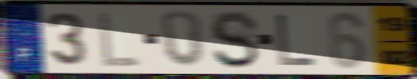0: (159, 9, 207, 70)
3: (45, 11, 90, 67)
6: (325, 10, 371, 71)
L: (97, 9, 142, 69), (273, 12, 319, 68)
S: (208, 9, 262, 71)
